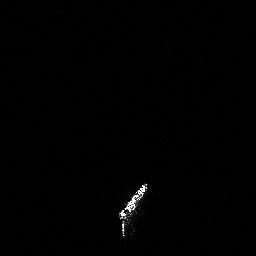ship: (113, 178, 153, 239)
